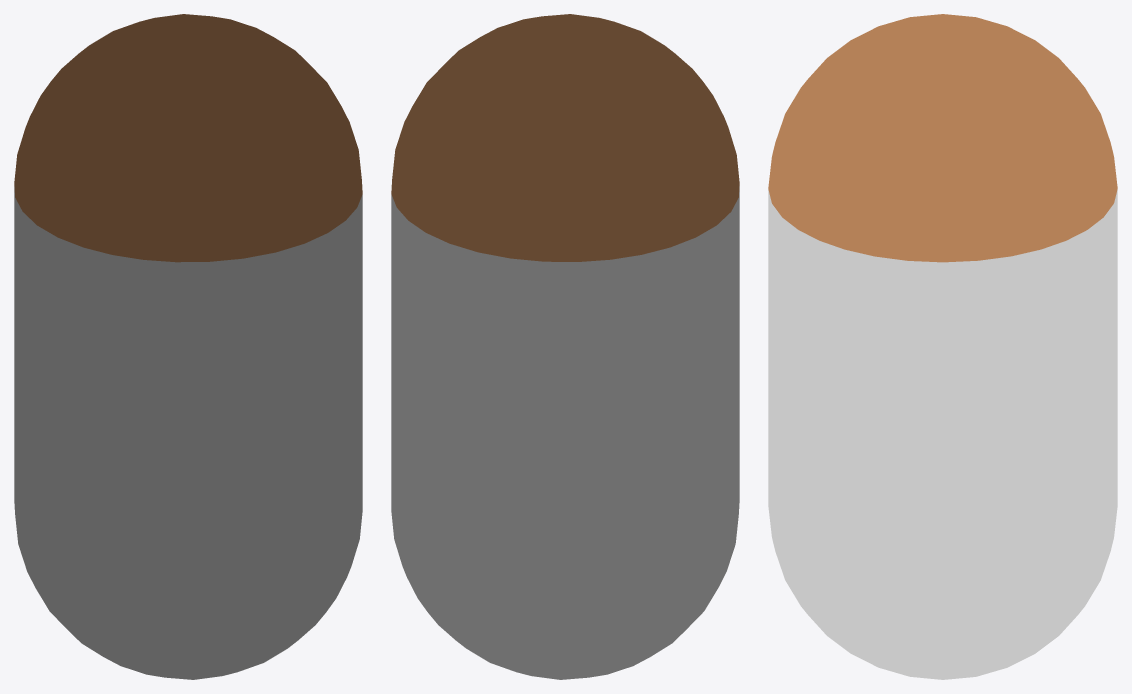
File: martin fierro.fbx
3 renders of one model, left to right at view 1: azimuth 30°, elevation 25°; view 2: azimuth 150°, elevation 25°; view 3: azimuth 270°, elevation 25°, orthographic.
Parts seen in each view (by area): view 1: martin fierro; view 2: martin fierro; view 3: martin fierro.
Boxes of the visible parts, x1,y1,x2,y2 form: martin fierro: (14, 14, 362, 679); martin fierro: (391, 14, 739, 679); martin fierro: (768, 14, 1117, 679).
Size of the model in its own units: 100 by 200 by 100.
